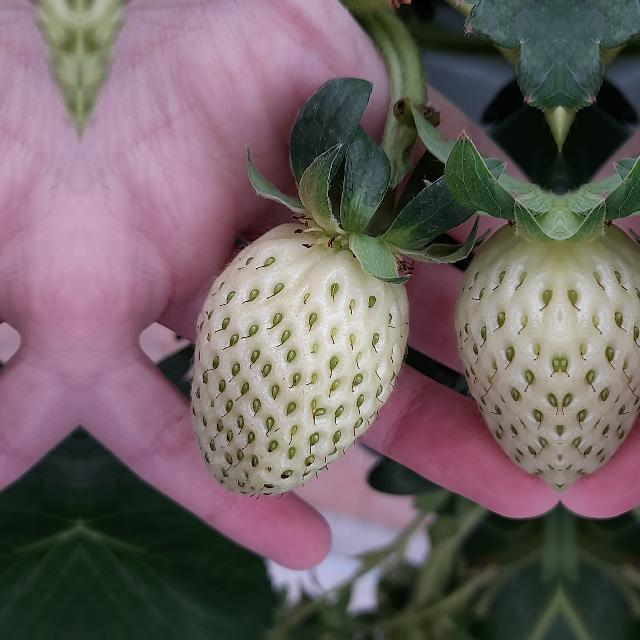Health_25: (191, 223, 409, 494), (455, 219, 559, 493), (561, 219, 640, 493)
